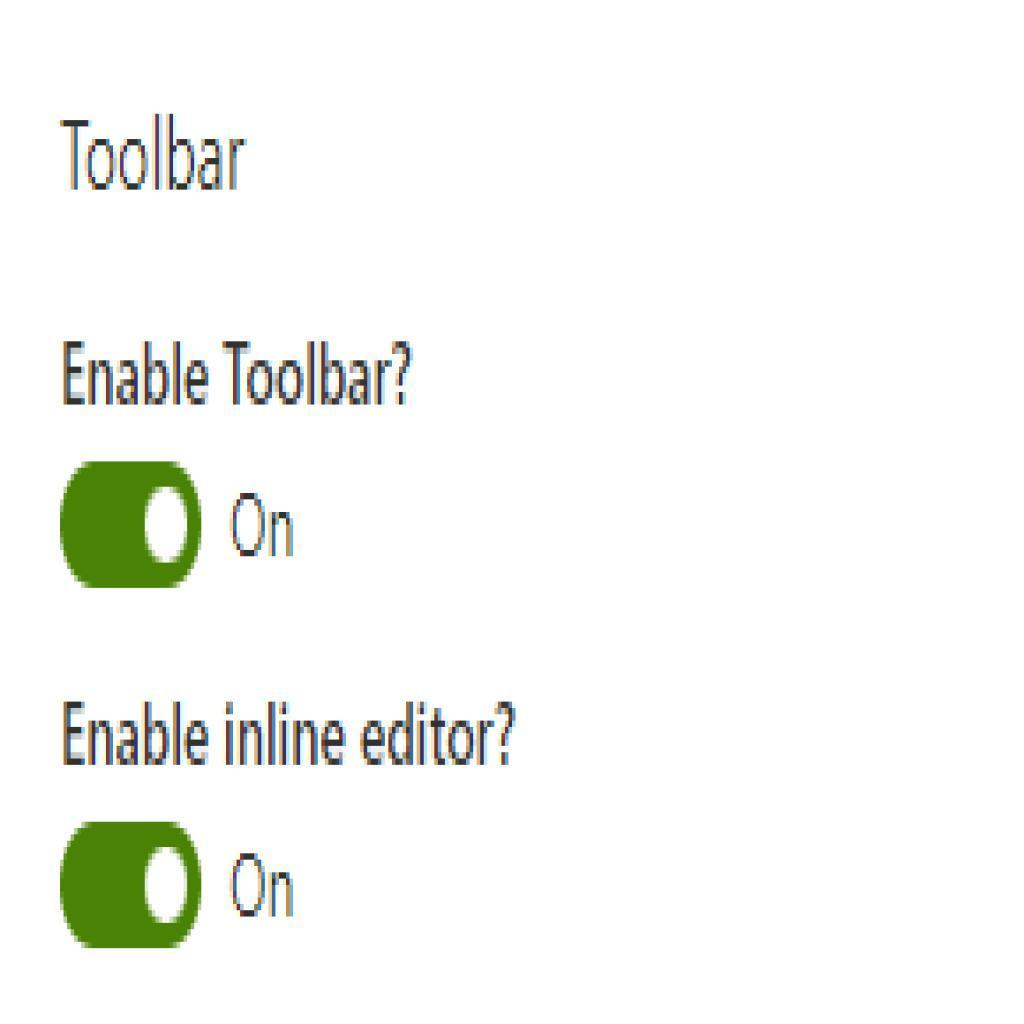switch: (52, 452, 208, 598), (59, 813, 208, 948)
